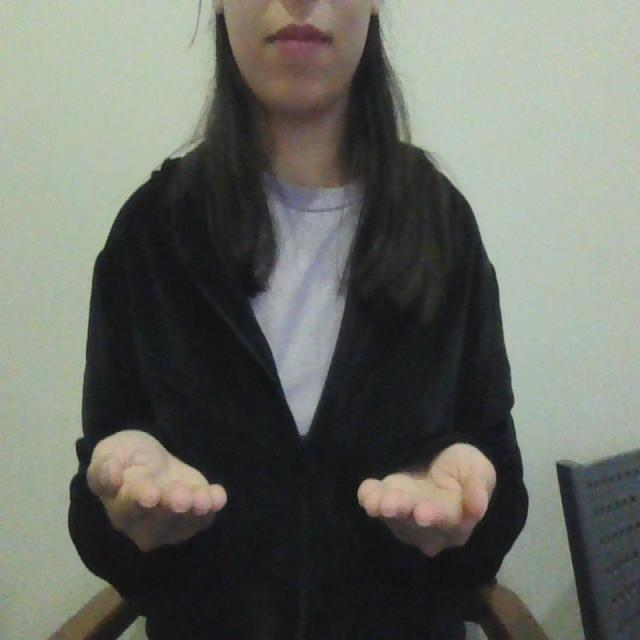Evet: (82, 425, 501, 564)
